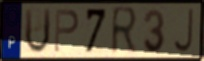3: (142, 7, 167, 55)
7: (84, 7, 108, 55)
J: (171, 8, 194, 55)
P: (53, 8, 80, 55)
R: (110, 5, 140, 58)
U: (24, 7, 53, 56)
